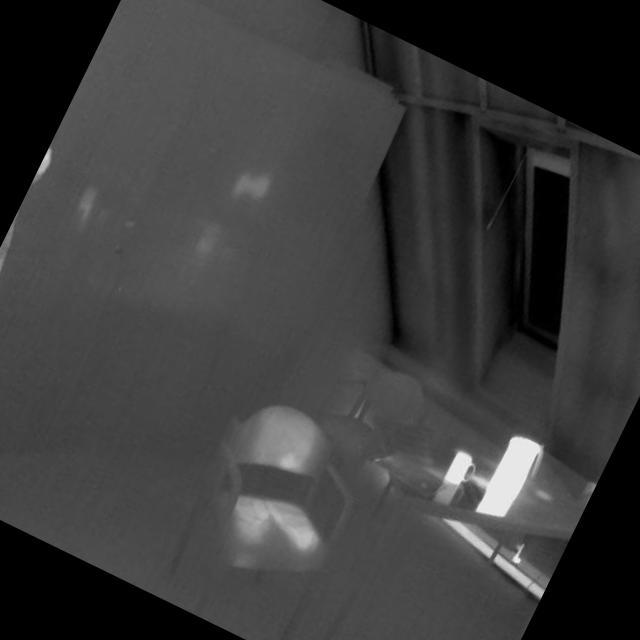person: (0, 143, 97, 490)
